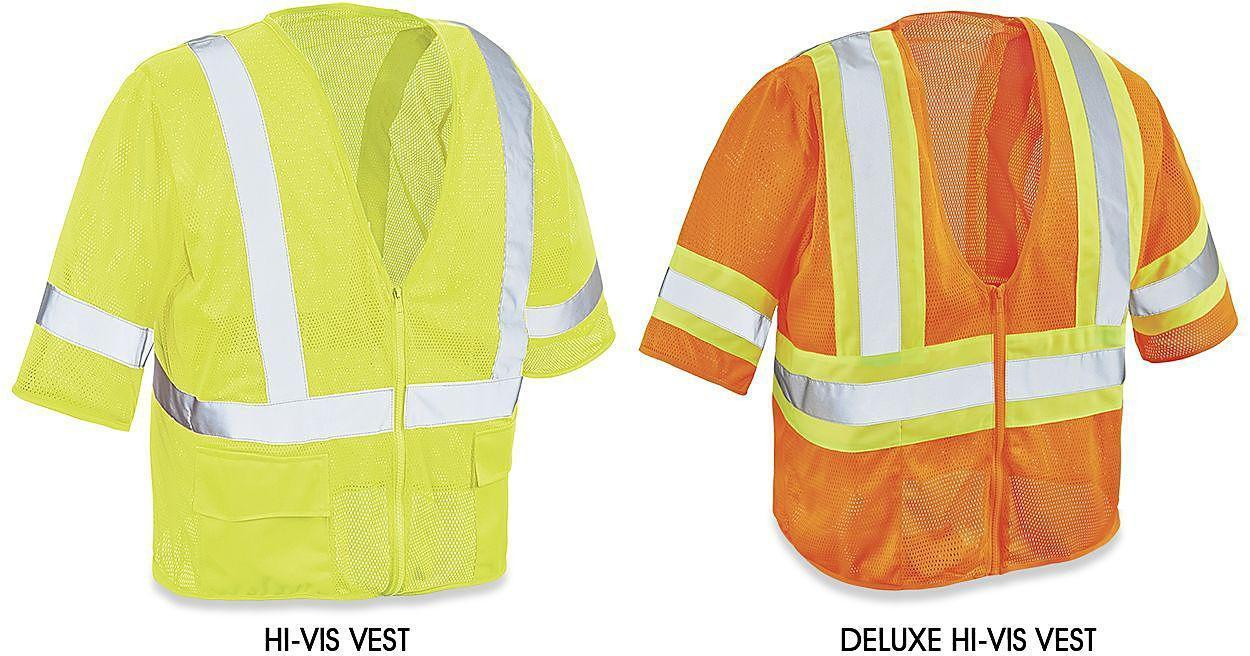vest: (13, 0, 623, 602), (633, 0, 1239, 592)
